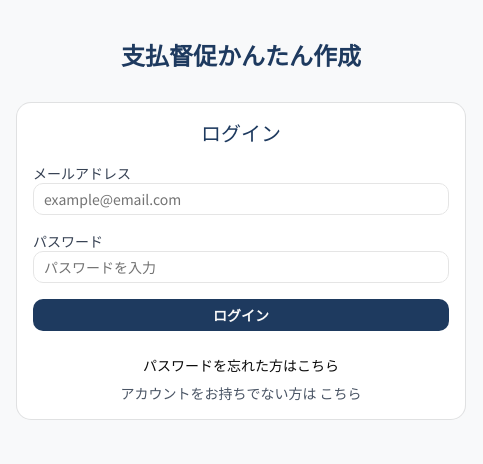
Test: LoginPage › Supabaseがエラーを返す場合「メールアドレスまたはパスワードが正しくありません」が表示される
Type "test@example.com" into the field labelled "メールアドレス" at [241, 199], box [33, 183, 449, 215]
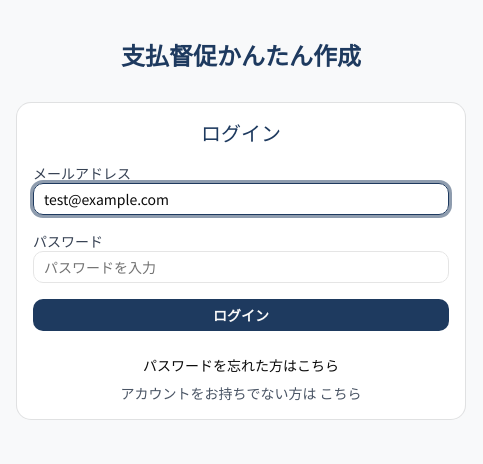
Type "WrongPass1" into the password field labelled "パスワード" at [241, 267], box [33, 251, 449, 283]
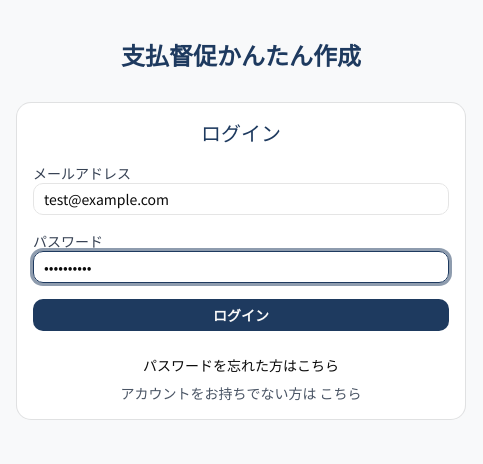
Click the button "ログイン" at [241, 315], box [33, 299, 449, 331]
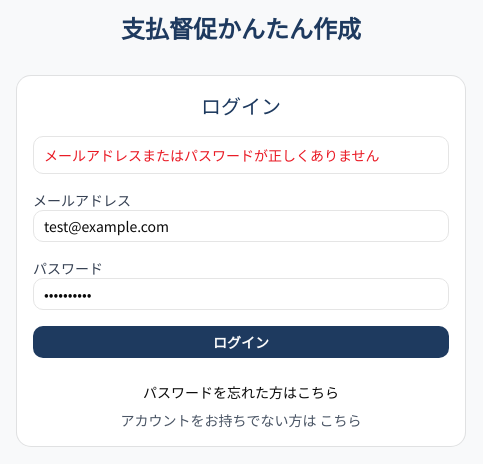
expect the text "メールアドレスまたはパスワードが正しくありません" is shown: met, box [44, 145, 438, 165]
